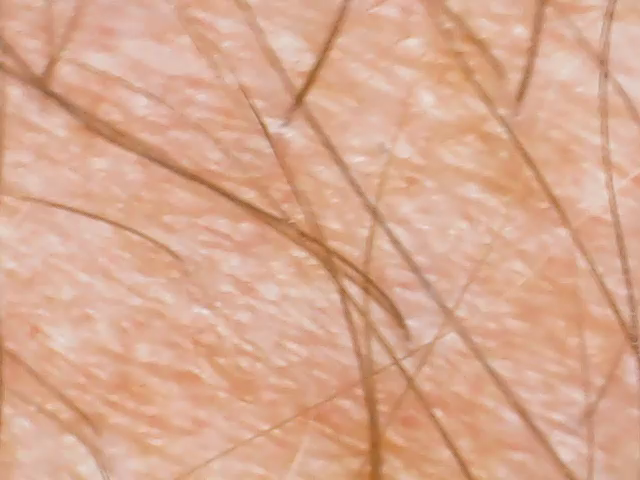folice: (156, 241, 193, 277), (489, 64, 519, 91), (393, 324, 419, 353), (574, 407, 598, 435), (507, 88, 531, 113), (278, 101, 301, 126), (84, 423, 111, 444)
